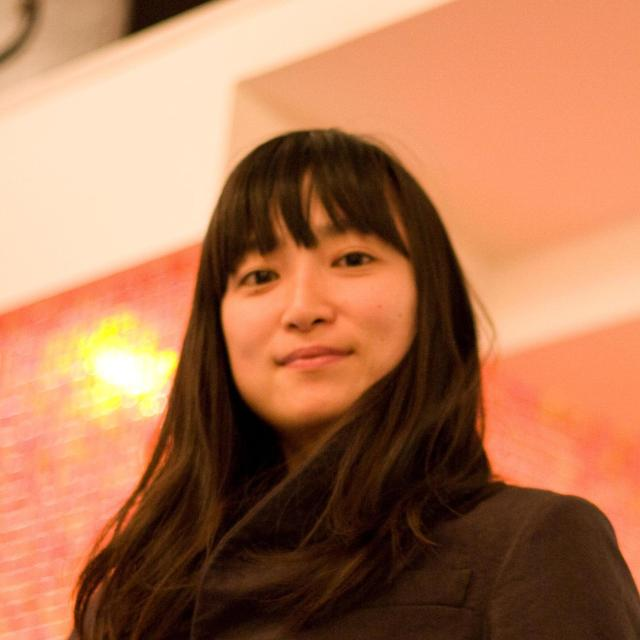no-glass: (240, 249, 380, 294)
